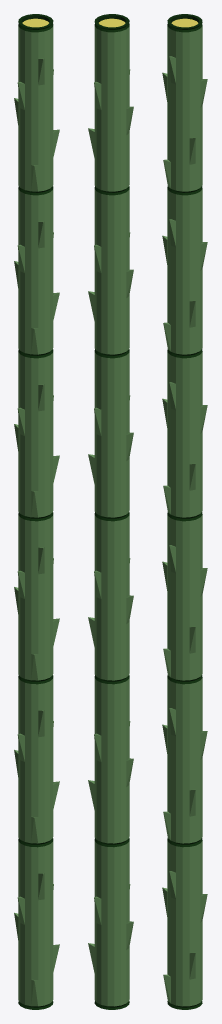
The model's file is BamStage3.fbx.
3 views of the same model, side by side, from view 1: azimuth 30°, elevation 25°; view 2: azimuth 210°, elevation 25°; view 3: azimuth 330°, elevation 25° (orthographic).
Parts seen in each view (by area): view 1: BamStage3; view 2: BamStage3; view 3: BamStage3.
Boxes of the visible parts, box(x1,y1,x2,y2) form: BamStage3: box(14, 14, 59, 1009); BamStage3: box(88, 14, 133, 1009); BamStage3: box(162, 14, 207, 1009).
Bounding box in the file's own units: 265 × 6105 × 245.
